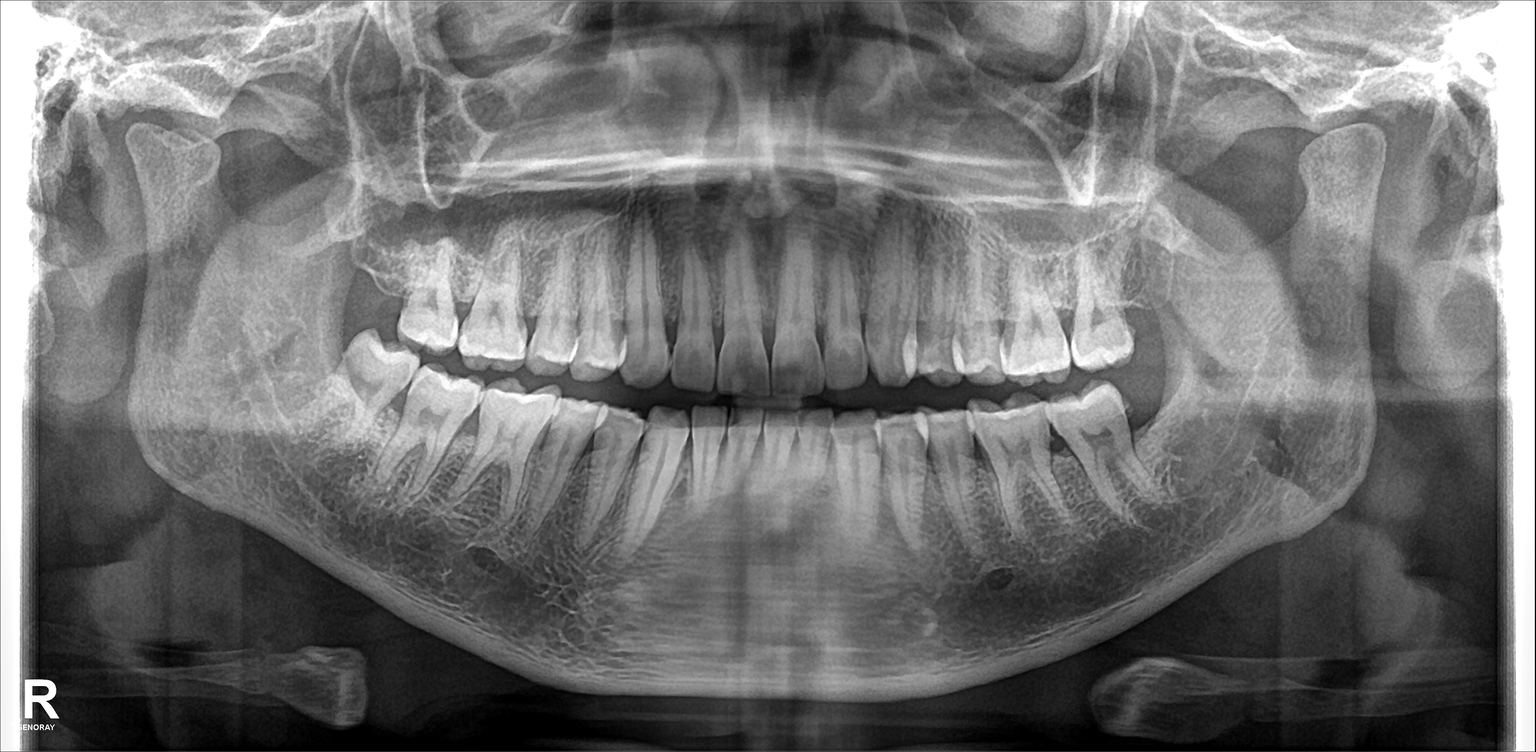Missing Tooth: (350, 235, 404, 340), (1134, 240, 1172, 365), (1130, 391, 1183, 475)
